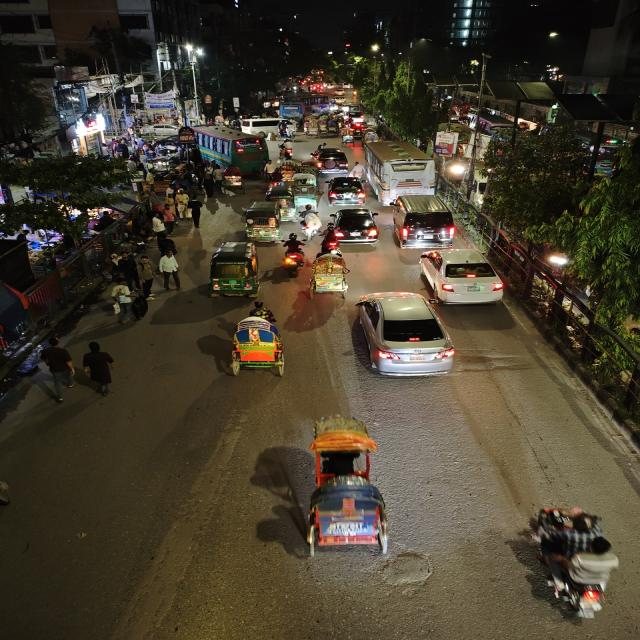bus: (363, 140, 441, 198), (191, 127, 270, 167), (283, 96, 332, 118)
car: (350, 290, 458, 382), (415, 248, 508, 308), (390, 193, 460, 249), (329, 207, 381, 247), (325, 176, 370, 208), (314, 148, 350, 174), (347, 112, 366, 125)
cng: (202, 241, 262, 301), (241, 202, 284, 242)
motorcycle: (522, 499, 634, 625), (277, 232, 307, 271), (296, 203, 321, 240), (320, 224, 340, 254), (279, 141, 295, 161)
pedestrian: (80, 340, 122, 398), (39, 338, 78, 400), (103, 280, 138, 324), (116, 253, 148, 290), (157, 250, 184, 292), (134, 255, 158, 299), (184, 195, 207, 228), (161, 200, 179, 234), (151, 212, 170, 238), (176, 188, 190, 219)
rickshaw: (262, 408, 405, 566), (218, 305, 302, 380), (308, 253, 353, 299), (289, 175, 320, 208), (221, 164, 246, 188), (266, 166, 292, 188), (278, 121, 295, 141), (305, 122, 322, 138), (325, 120, 342, 134)
